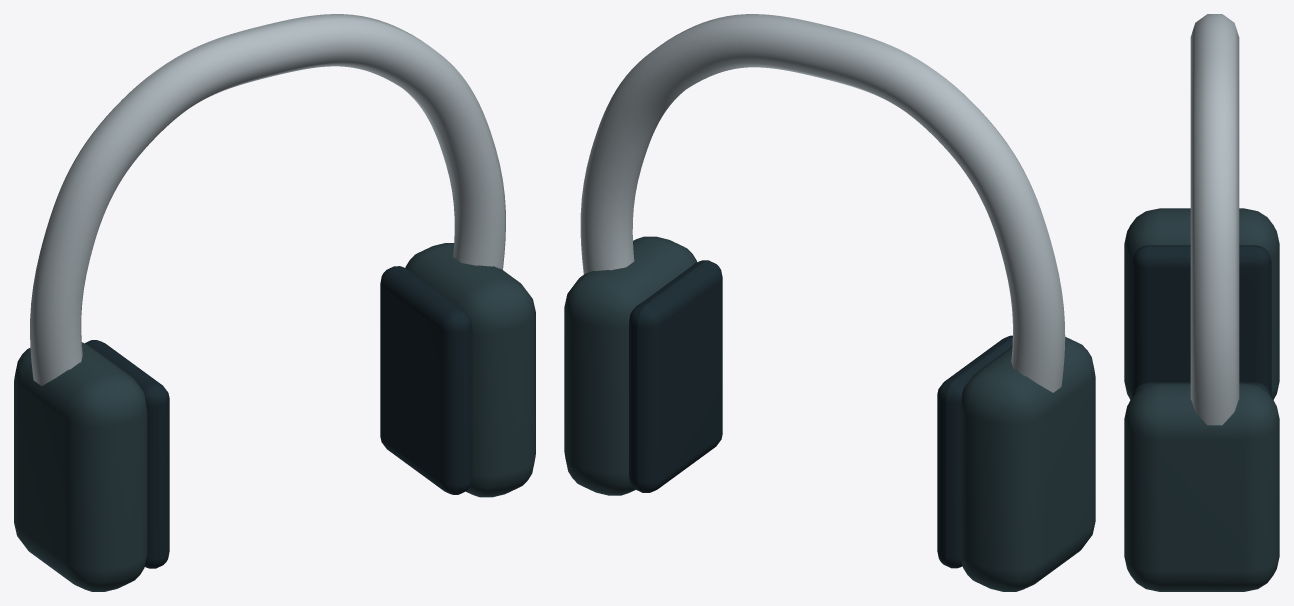
Rendered from entry-headphones.glb.
3 renders of one model, left to right at view 1: azimuth 30°, elevation 25°; view 2: azimuth 150°, elevation 25°; view 3: azimuth 270°, elevation 25°, orthographic. The views are drawn at different scales.
Parts seen in each view (by area): view 1: Headphone headband, Headphone ear cup, Ear cushion.001, Headphone ear cup.001, Ear cushion; view 2: Headphone headband, Headphone ear cup, Ear cushion.001, Headphone ear cup.001, Ear cushion; view 3: Headphone ear cup.001, Headphone headband, Ear cushion, Headphone ear cup, Ear cushion.001.
Part boxes in pixels (<box>): Headphone headband: <box>30,14,505,385</box>; Headphone ear cup: <box>14,342,147,591</box>; Ear cushion.001: <box>380,266,472,494</box>; Headphone ear cup.001: <box>405,243,535,497</box>; Ear cushion: <box>85,340,169,568</box>; Headphone headband: <box>580,14,1065,392</box>; Headphone ear cup: <box>960,337,1095,591</box>; Ear cushion.001: <box>629,260,722,492</box>; Headphone ear cup.001: <box>564,236,696,495</box>; Ear cushion: <box>937,335,1012,568</box>; Headphone ear cup.001: <box>1124,383,1279,591</box>; Headphone headband: <box>1190,14,1239,425</box>; Ear cushion: <box>1132,245,1271,397</box>; Headphone ear cup: <box>1124,208,1279,399</box>; Ear cushion.001: <box>1132,382,1271,396</box>.
Bounding box in the file's own units: 3.48 × 3.48 × 1.08.
